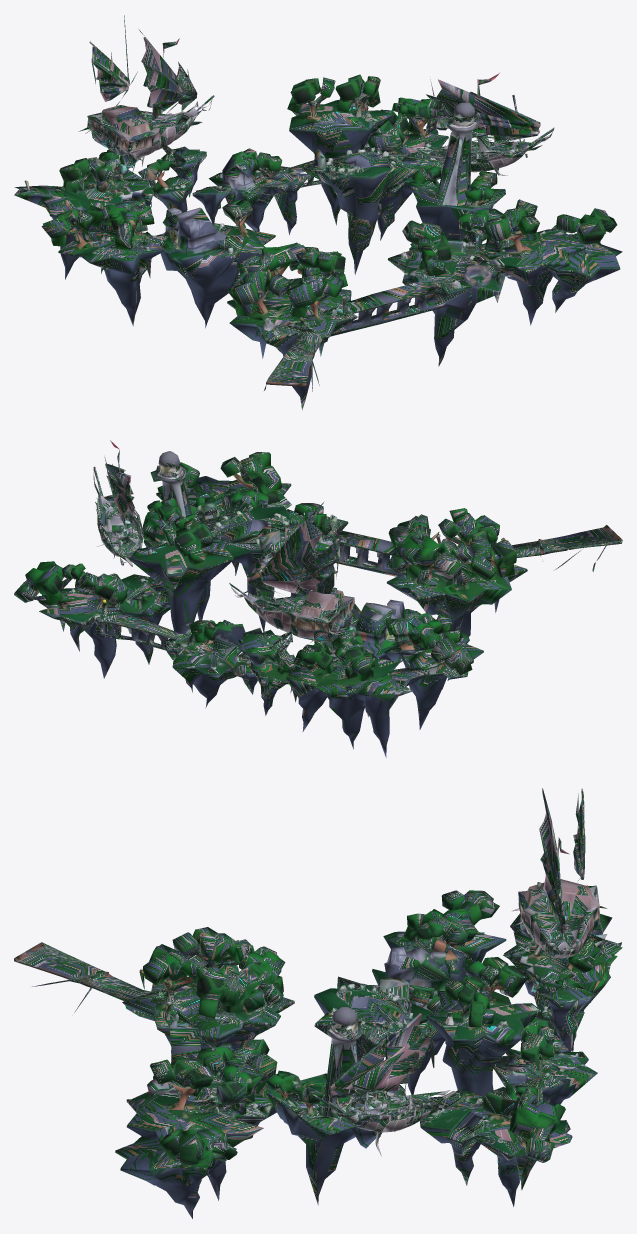
File: Skybound_Isles.glb
The picture shows the model from 3 angles, top to bottom: view 1: azimuth 30°, elevation 25°; view 2: azimuth 150°, elevation 25°; view 3: azimuth 270°, elevation 25°; orthographic projection. The views are drawn at different scales.
Parts seen in each view (by area): view 1: Skybound_Isles; view 2: Skybound_Isles; view 3: Skybound_Isles.
Boxes of the visible parts, x1,y1,x2,y2 form: Skybound_Isles: (14, 15, 622, 410); Skybound_Isles: (14, 440, 622, 757); Skybound_Isles: (14, 788, 622, 1218).
Bounding box in the file's own units: 1.86 × 1.1 × 1.88.
Materials: 1 (1 with a texture image).
